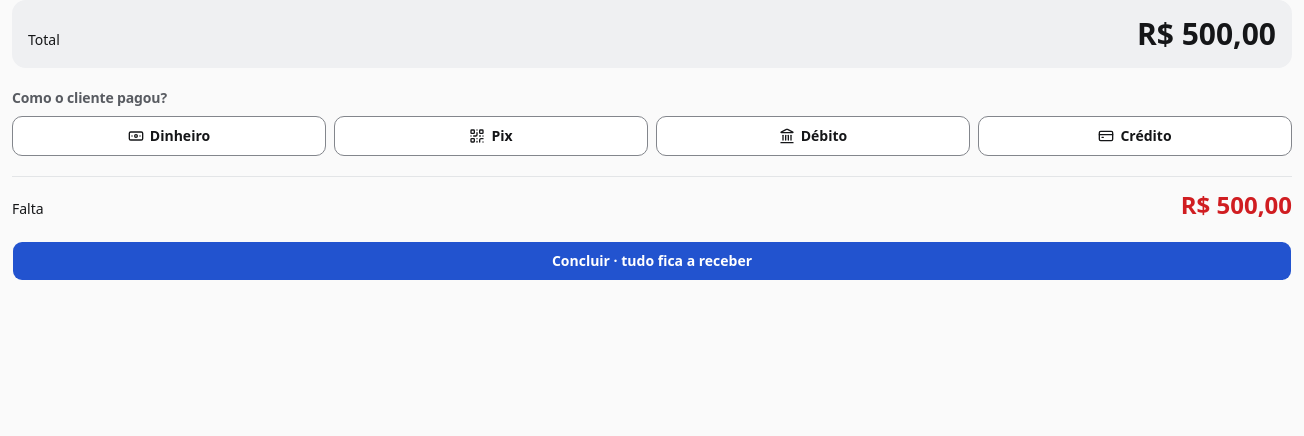
Test case: RecebimentoEtapa › dinheiro mostra o troco pelo valor entregue
Click the button "Dinheiro": click(169, 136) [12,116,326,156]
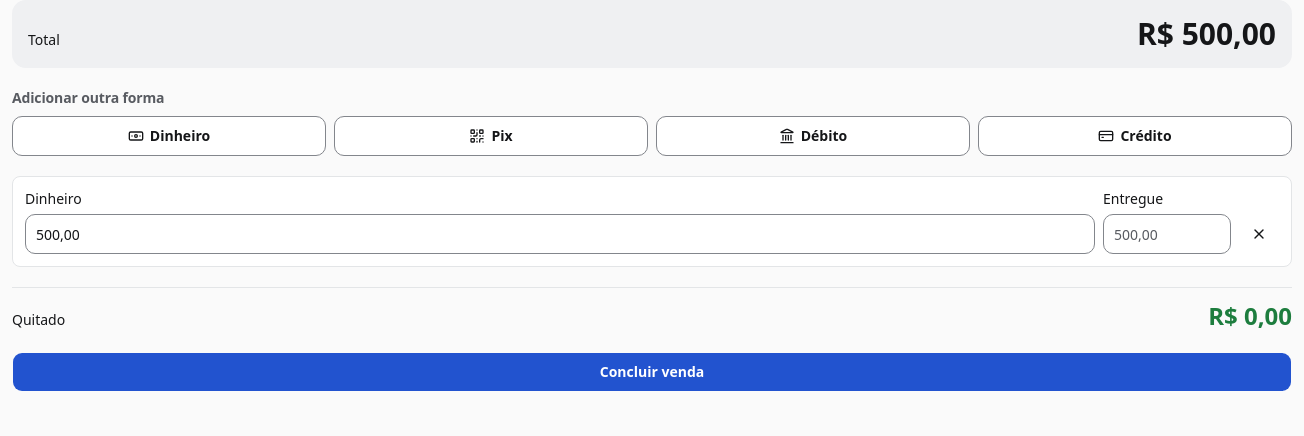
In the field labelled "Entregue": (1167, 234) [1103,214,1231,254], type "60000"
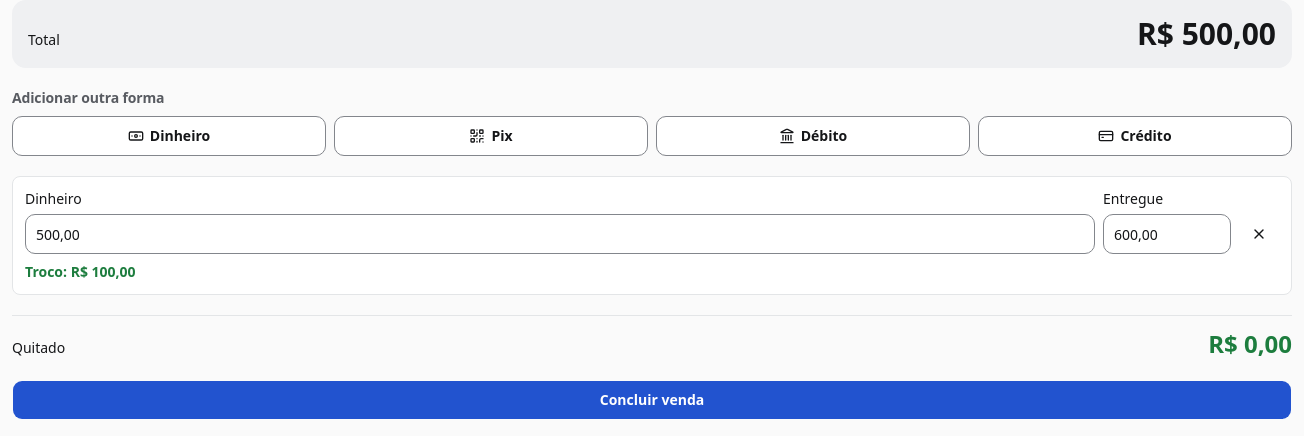
Result: the text "Troco: R$ 100,00" is shown at [25,262,136,281]
